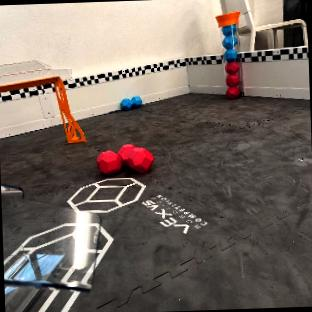V5_BLUE: (222, 24, 237, 60), (121, 96, 142, 110)
V5_RED: (96, 143, 153, 176), (227, 61, 239, 98)
